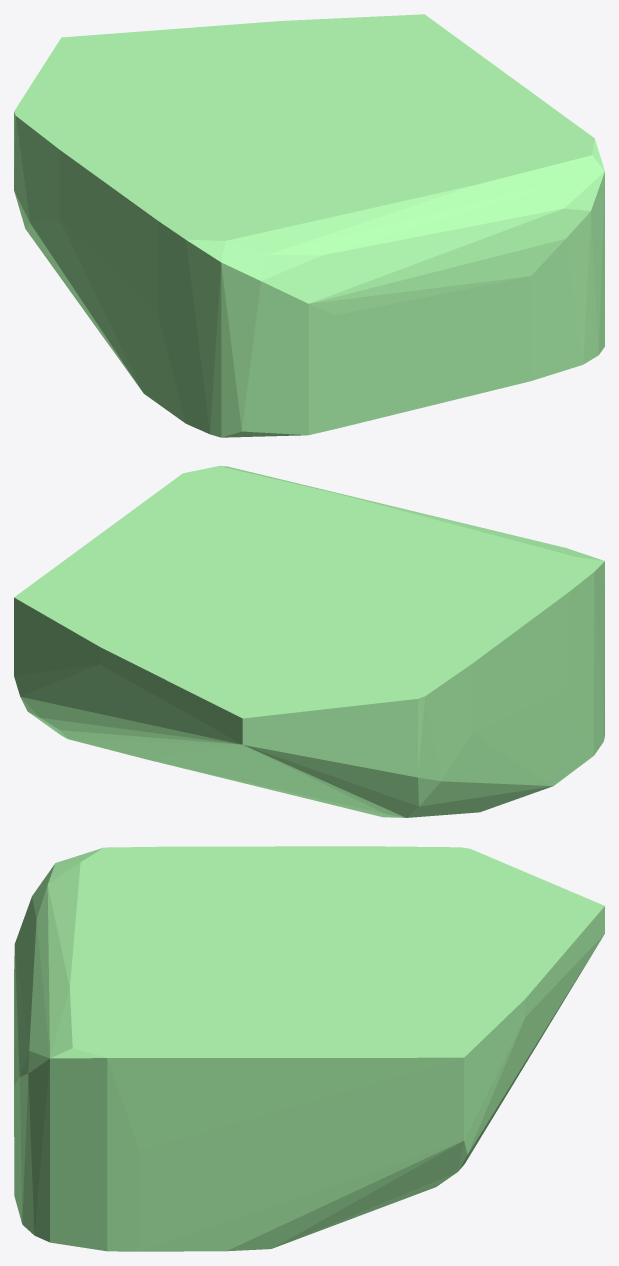
Rendered from dxxx_robot_base_coll_3.dae.
The picture shows the model from 3 angles, top to bottom: view 1: azimuth 30°, elevation 25°; view 2: azimuth 150°, elevation 25°; view 3: azimuth 270°, elevation 25°; orthographic projection. The views are drawn at different scales.
Visible parts, largest first — view 1: Node_000001D818CBD260; view 2: Node_000001D818CBD260; view 3: Node_000001D818CBD260.
Part boxes in pixels (x1,y1,x2,y2): Node_000001D818CBD260: (14, 14, 604, 437); Node_000001D818CBD260: (14, 466, 604, 817); Node_000001D818CBD260: (14, 846, 604, 1251).
Bounding box in the file's own units: 0.1823 × 0.0775 × 0.2146.
